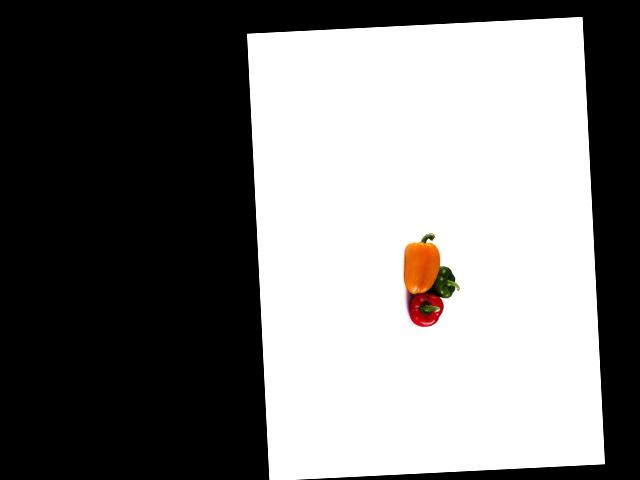bell_pepper: (425, 262, 460, 302)
